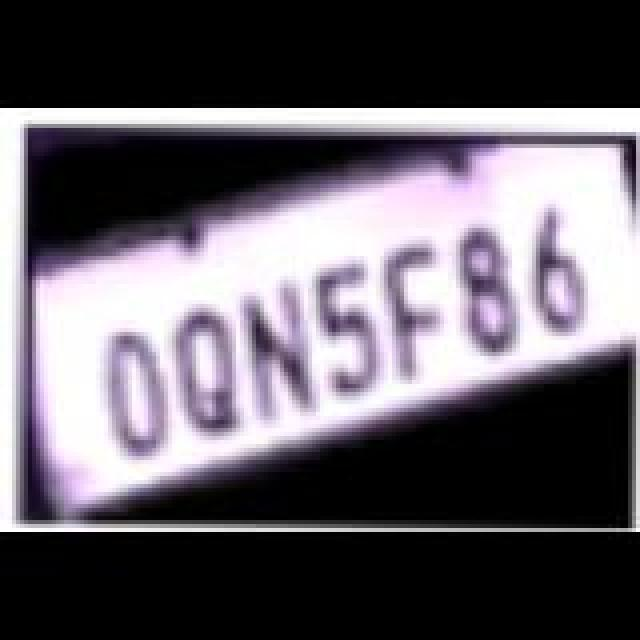5: (302, 260, 402, 404)
6: (502, 202, 602, 342)
8: (436, 218, 540, 358)
F: (366, 240, 474, 384)
N: (226, 282, 334, 430)
O: (84, 330, 188, 462)
Q: (156, 304, 260, 440)
